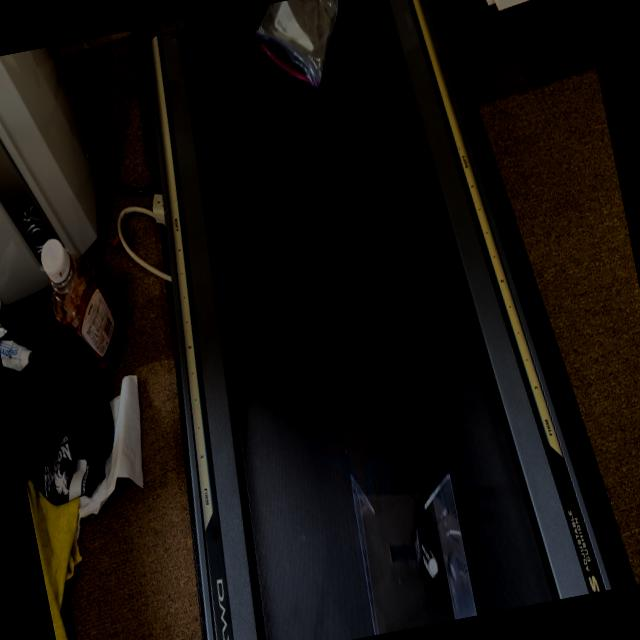Recycle: (342, 456, 478, 636), (246, 0, 359, 100)
